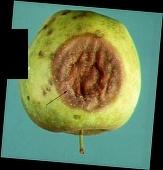rotten apple: (20, 12, 143, 135)
